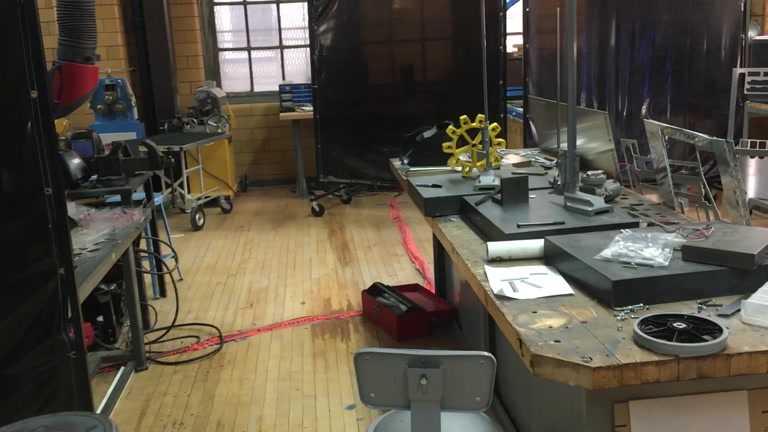gear: (441, 113, 506, 178)
